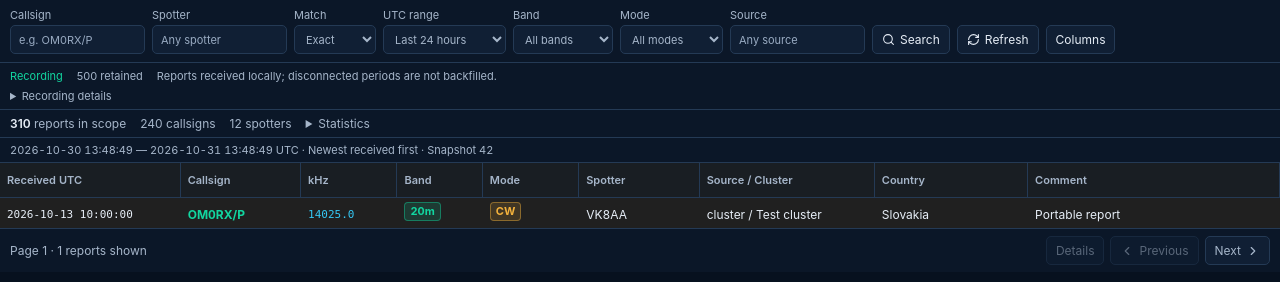
Test: Spot History scope and paging › pins next and previous pages to the watermark and starts a new snapshot on Refresh
The width and height of the screenshot is (1280, 282).
expect the text "310" is shown: met, box [10,116,31,131]
What coordinates should you click on to do the following:
click the button "Next"
I would click on:
 (1237, 250)
Its box is [1204,236,1270,265].
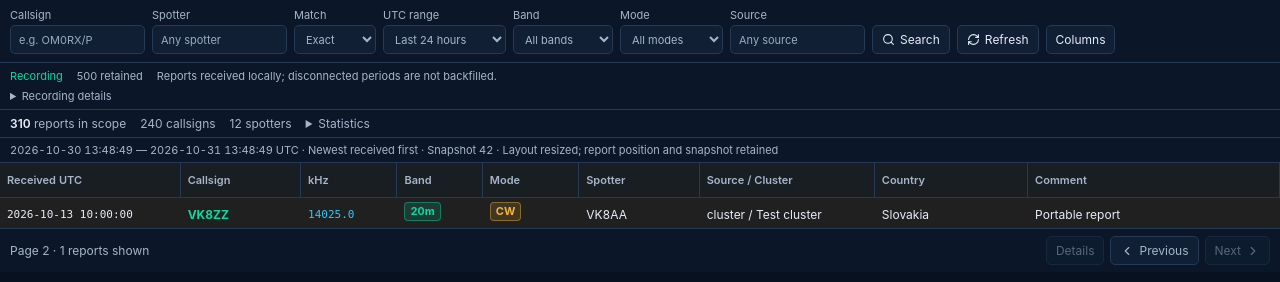
expect the text "VK8ZZ" is shown: met, box [181,198,301,228]
What coordinates should you click on to do the following:
click the button "Previous"
I would click on:
 (1154, 250)
Its box is [1110,236,1198,265].
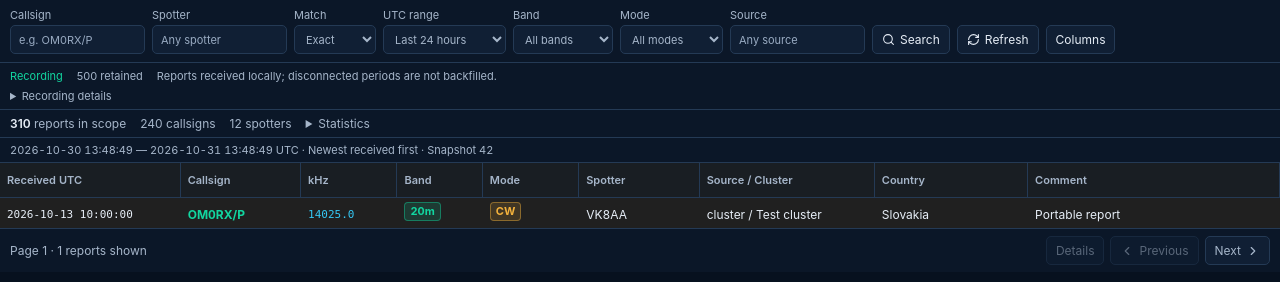
expect the text "OM0RX/P" is shown: met, box [181,198,301,228]
What coordinates should you click on to do the following:
click the button "Refresh"
I would click on:
 (998, 40)
Its box is [957,25,1038,54].
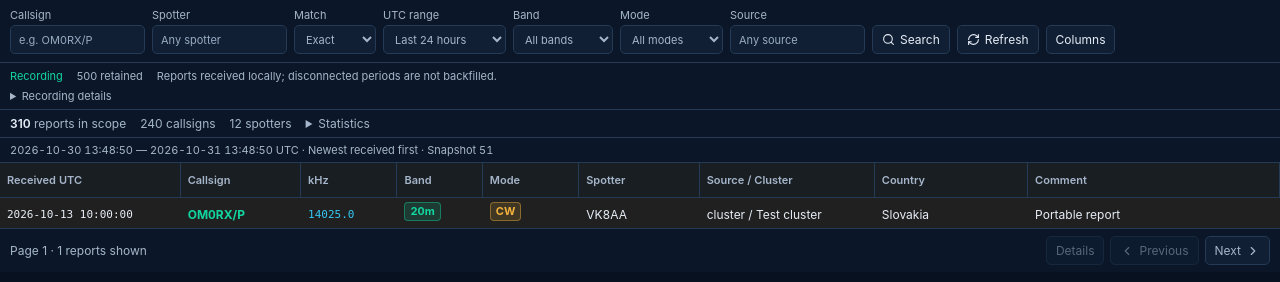
expect the text "Snapshot 51" is shown: met, box [418,143,493,157]
